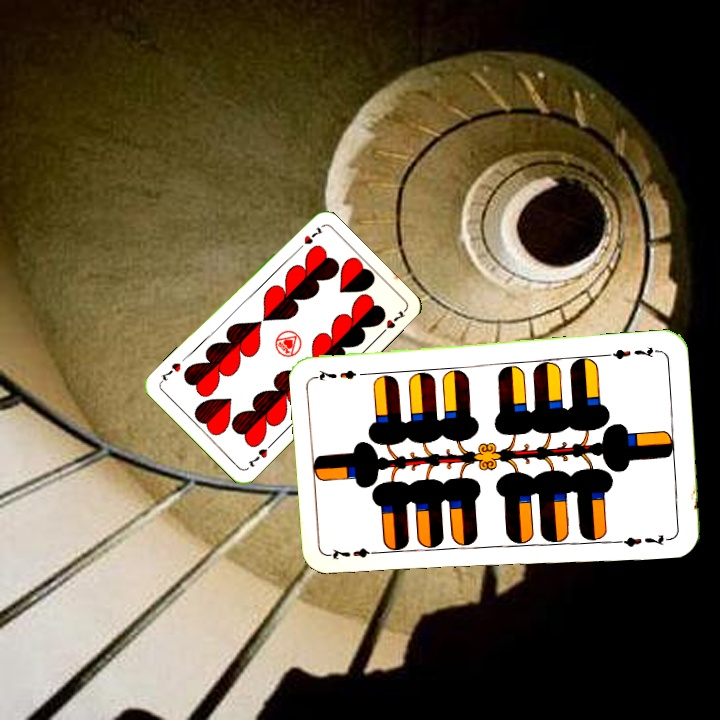E7: (603, 343, 662, 362), (326, 544, 385, 563)
H7: (243, 439, 275, 470), (292, 223, 324, 254)
